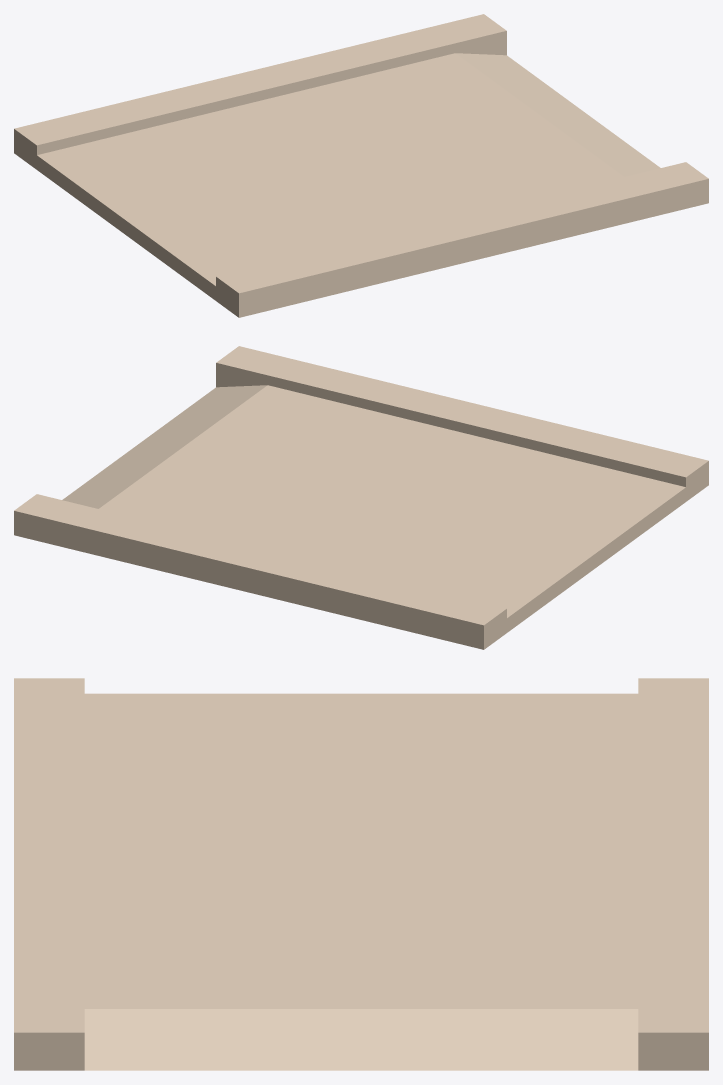
File: bridge.fbx
3 views of the same model, one above another, from view 1: azimuth 30°, elevation 25°; view 2: azimuth 150°, elevation 25°; view 3: azimuth 270°, elevation 25° (orthographic). The views are drawn at different scales.
Visible parts, largest first — view 1: bridge, bridge_cell.003, bridge_cell.005, bridge_cell.002, bridge_cell.001, bridge_cell.004, bridge_cell.007; view 2: bridge, bridge_cell.003, bridge_cell.005, bridge_cell.002, bridge_cell.001, bridge_cell.004, bridge_cell.007; view 3: bridge, bridge_cell.005, bridge_cell.003, bridge_cell.002, bridge_cell.001, bridge_cell.007, bridge_cell.004.
Boxes of the visible parts, x1=… form: bridge: x1=14, y1=14, x2=708, y2=317; bridge_cell.003: x1=14, y1=99, x2=346, y2=243; bridge_cell.005: x1=247, y1=26, x2=571, y2=181; bridge_cell.002: x1=138, y1=185, x2=473, y2=317; bridge_cell.001: x1=14, y1=77, x2=245, y2=149; bridge_cell.004: x1=411, y1=162, x2=696, y2=227; bridge_cell.007: x1=466, y1=19, x2=595, y2=120; bridge: x1=14, y1=346, x2=708, y2=649; bridge_cell.003: x1=274, y1=493, x2=607, y2=649; bridge_cell.005: x1=51, y1=449, x2=398, y2=597; bridge_cell.002: x1=422, y1=403, x2=708, y2=558; bridge_cell.001: x1=274, y1=557, x2=506, y2=629; bridge_cell.004: x1=216, y1=354, x2=462, y2=440; bridge_cell.007: x1=38, y1=452, x2=149, y2=511; bridge: x1=14, y1=678, x2=708, y2=1070; bridge_cell.005: x1=296, y1=851, x2=688, y2=1042; bridge_cell.003: x1=325, y1=693, x2=638, y2=851; bridge_cell.002: x1=14, y1=678, x2=259, y2=869; bridge_cell.001: x1=638, y1=678, x2=708, y2=835; bridge_cell.007: x1=362, y1=1013, x2=683, y2=1070; bridge_cell.004: x1=49, y1=854, x2=303, y2=1051.
Size of the model in its own units: 1002 by 50 by 831.
